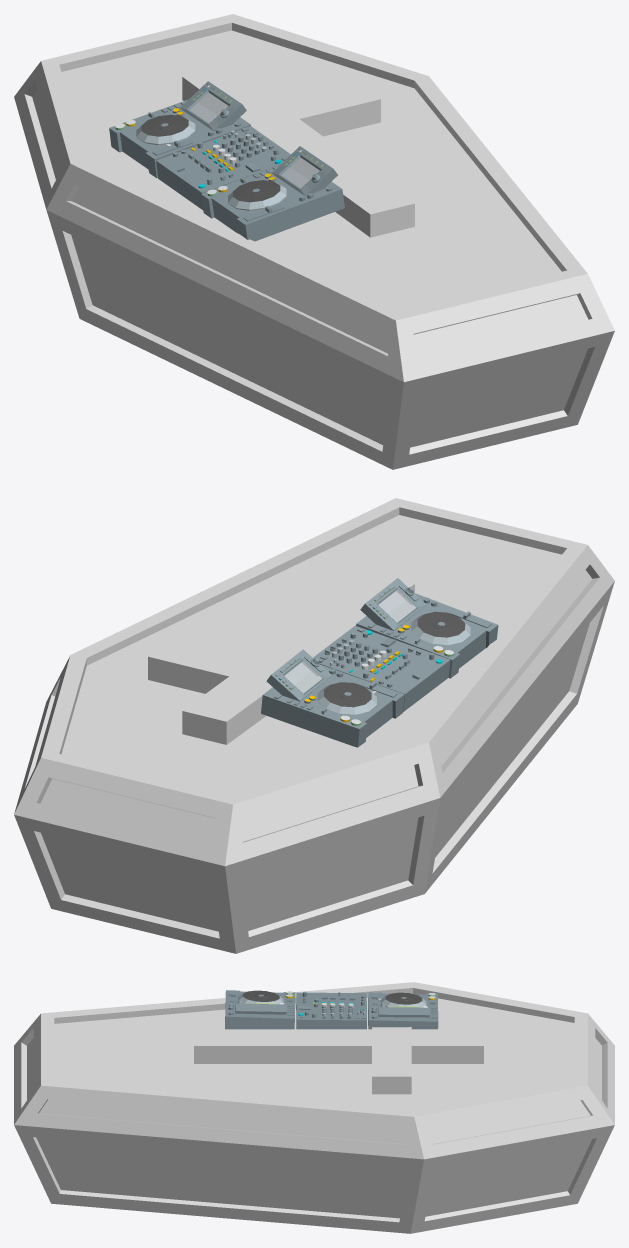
File: cdjs.fbx
3 renders of one model, top to bottom at view 1: azimuth 30°, elevation 25°; view 2: azimuth 150°, elevation 25°; view 3: azimuth 270°, elevation 25°, orthographic. The views are drawn at different scales.
Visible parts, largest first — view 1: node-0; view 2: node-0; view 3: node-0.
Boxes of the visible parts, x1=… form: node-0: x1=14, y1=14, x2=614, y2=469; node-0: x1=14, y1=498, x2=614, y2=953; node-0: x1=14, y1=982, x2=614, y2=1233.
Bounding box in the file's own units: 266 × 128 × 456.
